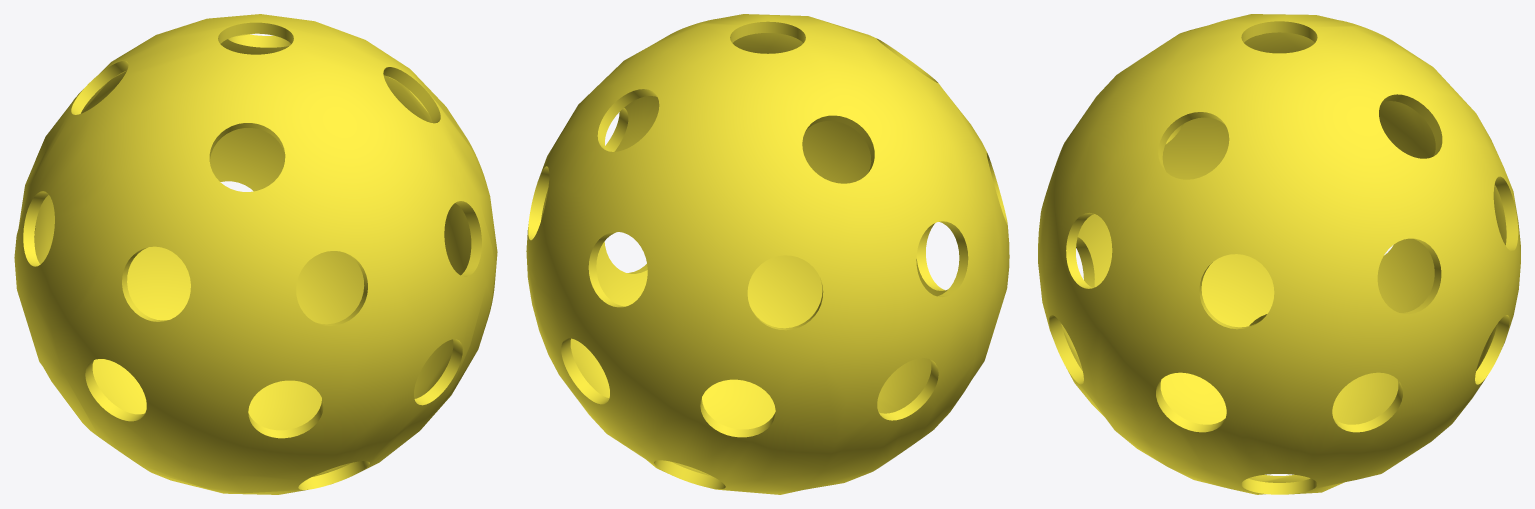
3 renders of one model, left to right at view 1: azimuth 30°, elevation 25°; view 2: azimuth 150°, elevation 25°; view 3: azimuth 270°, elevation 25°, orthographic.
Parts seen in each view (by area): view 1: am-5851: Pollen; view 2: am-5851: Pollen; view 3: am-5851: Pollen.
Boxes of the visible parts, x1,y1,x2,y2 form: am-5851: Pollen: [14, 14, 497, 494]; am-5851: Pollen: [526, 14, 1009, 494]; am-5851: Pollen: [1038, 14, 1520, 494].
Size of the model in its own units: 0.0711 by 0.0702 by 0.0709.
